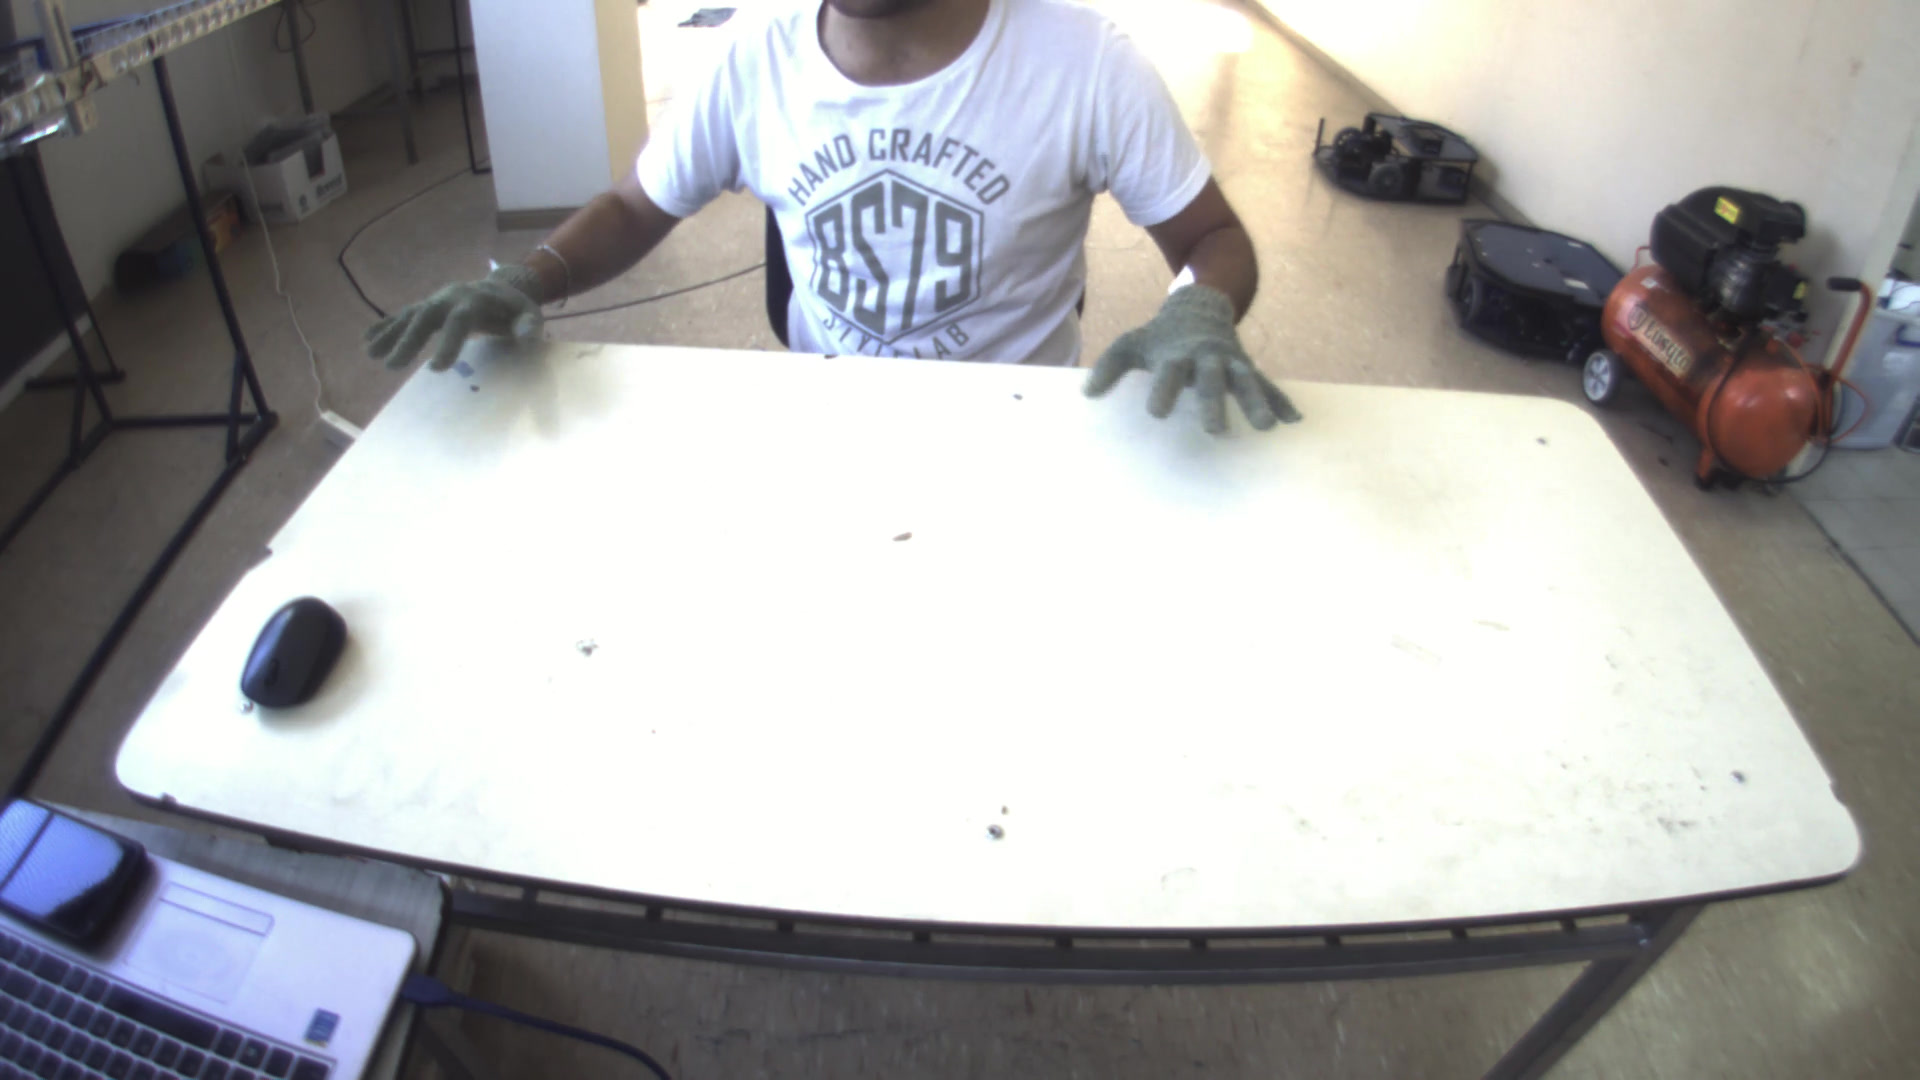hand: (1077, 272, 1311, 435), (348, 255, 553, 386)
